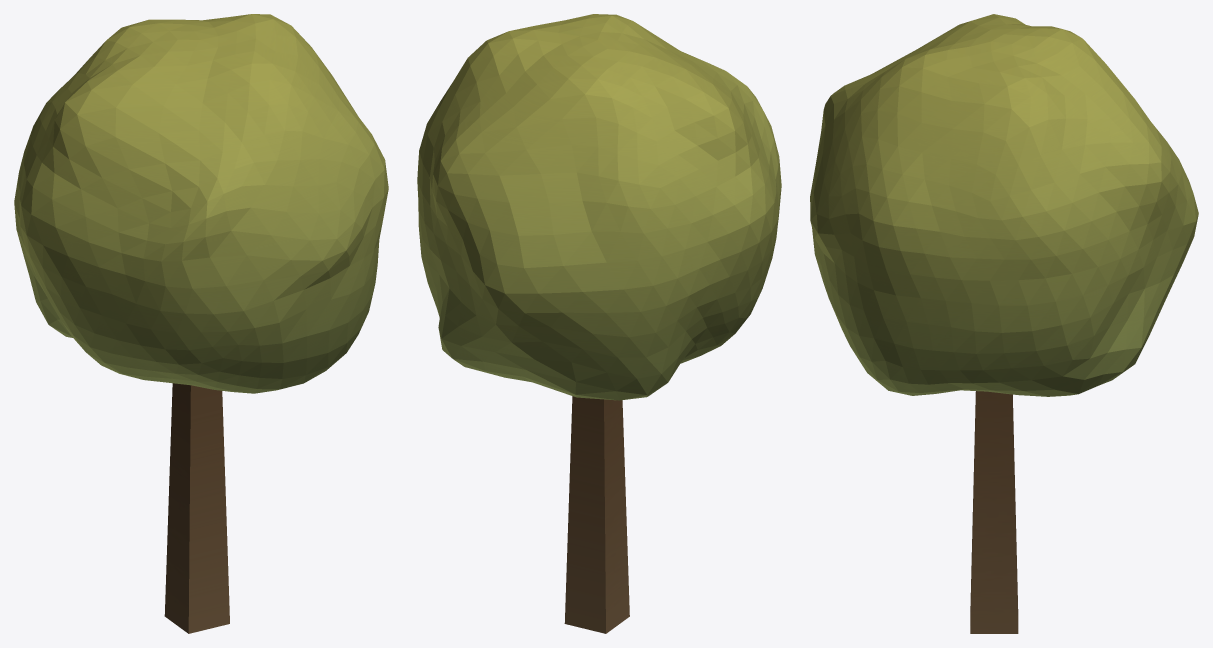
Rendered from small-tree-3.glb.
3 views of the same model, side by side, from view 1: azimuth 30°, elevation 25°; view 2: azimuth 150°, elevation 25°; view 3: azimuth 270°, elevation 25° (orthographic).
Parts seen in each view (by area): view 1: small-tree-3; view 2: small-tree-3; view 3: small-tree-3.
Boxes of the visible parts, x1,y1,x2,y2 form: small-tree-3: [14, 14, 388, 633]; small-tree-3: [417, 14, 781, 633]; small-tree-3: [810, 14, 1198, 633].
Size of the model in its own units: 0.4007 by 0.6864 by 0.4149.
Materials: 1 (1 with a texture image).
